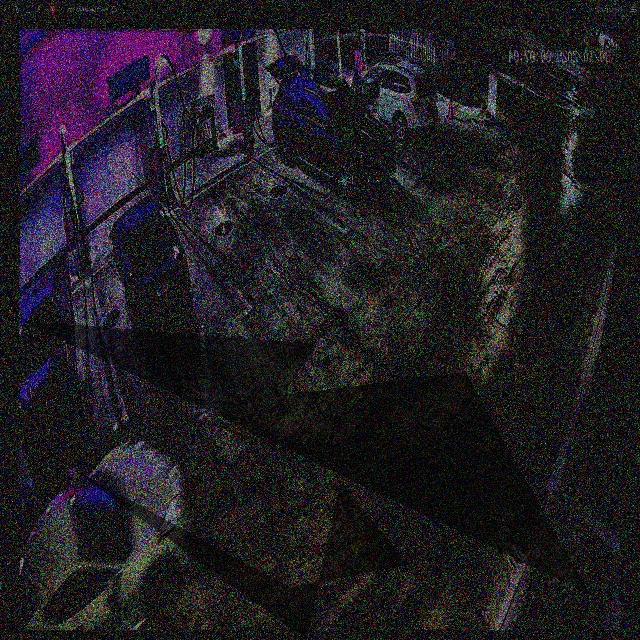Car: (19, 442, 194, 634), (272, 62, 397, 197), (110, 195, 191, 335)
